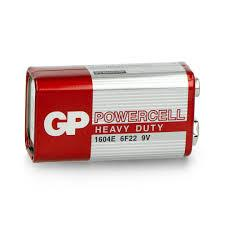9V Battery: (24, 62, 201, 164)
